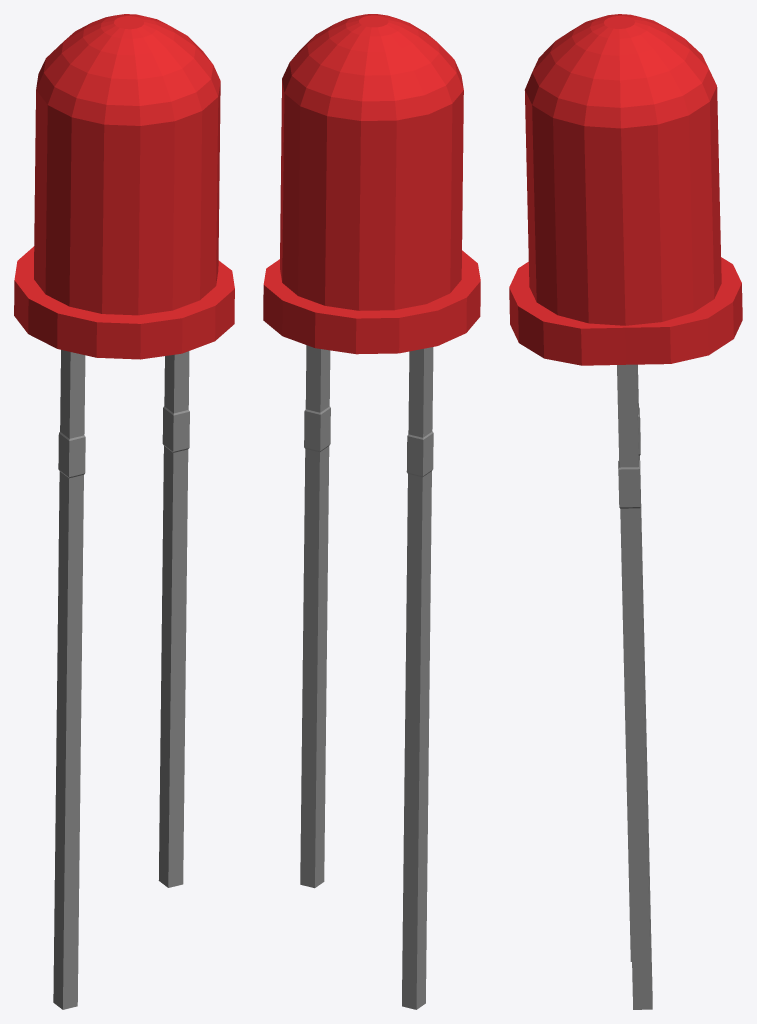
Rendered from redLed.fbx.
3 renders of one model, left to right at view 1: azimuth 30°, elevation 25°; view 2: azimuth 150°, elevation 25°; view 3: azimuth 270°, elevation 25°, orthographic. The views are drawn at different scales.
Parts seen in each view (by area): view 1: Cylinder; view 2: Cylinder; view 3: Cylinder.
Boxes of the visible parts, x1,y1,x2,y2 form: Cylinder: (14,14,234,1009); Cylinder: (263,14,480,1009); Cylinder: (509,14,742,1009).
Bounding box in the file's own units: 226 × 1159 × 243.
